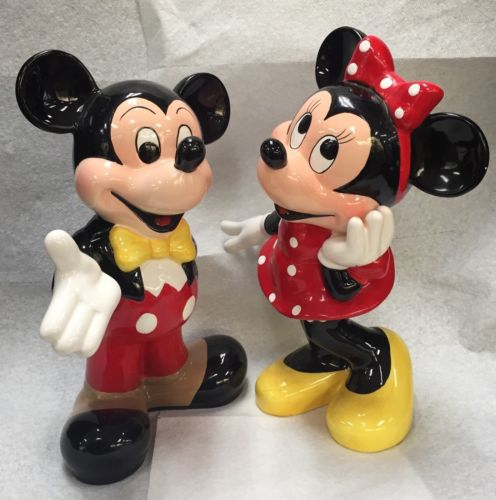Mickey: (14, 39, 234, 241)
